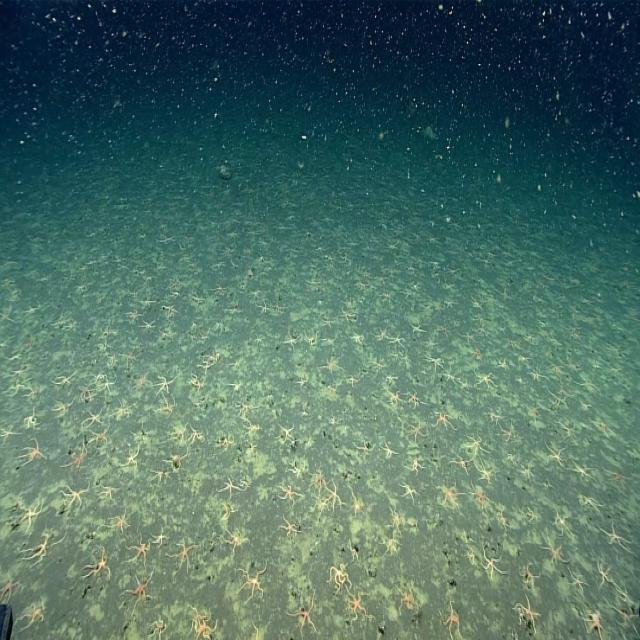brittle-stars: (289, 593, 321, 638), (20, 534, 57, 568), (598, 522, 635, 553), (125, 570, 154, 608), (189, 603, 217, 640), (344, 587, 375, 619), (437, 480, 463, 517), (481, 540, 505, 580), (85, 546, 111, 582), (20, 437, 48, 470), (239, 566, 266, 600), (570, 458, 600, 488), (21, 597, 47, 631), (18, 500, 43, 535), (517, 596, 540, 634), (440, 599, 461, 640), (543, 534, 567, 569), (128, 535, 152, 569), (328, 559, 353, 591), (171, 540, 194, 573), (218, 472, 245, 500), (60, 483, 89, 508), (472, 482, 494, 514), (277, 480, 300, 510), (596, 558, 615, 594), (50, 396, 74, 424), (394, 582, 418, 610), (604, 468, 632, 492), (584, 607, 604, 640), (386, 500, 405, 534), (450, 447, 472, 476), (222, 526, 246, 552), (405, 418, 428, 445), (0, 574, 21, 603), (545, 440, 566, 469), (186, 420, 207, 449), (121, 442, 140, 474), (324, 478, 344, 508), (347, 486, 365, 519), (474, 368, 498, 392), (321, 356, 345, 380), (233, 399, 258, 422), (309, 463, 326, 496), (52, 370, 75, 393), (88, 426, 110, 450), (153, 370, 173, 396), (66, 445, 86, 471), (83, 406, 105, 429), (400, 481, 421, 505), (158, 394, 176, 422), (467, 431, 487, 456), (435, 408, 454, 434), (150, 524, 170, 548), (280, 516, 300, 540), (386, 328, 406, 352), (474, 458, 492, 484), (275, 421, 297, 442), (99, 482, 118, 506), (569, 571, 587, 596), (111, 510, 130, 533), (120, 347, 139, 370), (22, 408, 40, 432), (408, 316, 426, 340), (339, 303, 358, 325), (151, 612, 167, 638), (547, 358, 567, 378), (381, 439, 396, 465), (348, 328, 368, 347), (243, 420, 262, 440), (369, 355, 389, 374), (524, 505, 542, 526), (217, 432, 235, 453), (319, 311, 337, 332), (139, 291, 156, 313), (459, 328, 478, 347), (407, 389, 422, 413), (270, 297, 286, 318), (100, 374, 115, 396), (387, 389, 404, 408), (283, 331, 298, 352), (162, 302, 180, 318), (426, 352, 444, 368), (142, 317, 158, 334), (530, 366, 544, 385), (257, 297, 270, 317), (347, 374, 362, 389), (212, 280, 226, 296), (375, 324, 388, 341), (297, 375, 310, 390), (107, 352, 118, 367)
